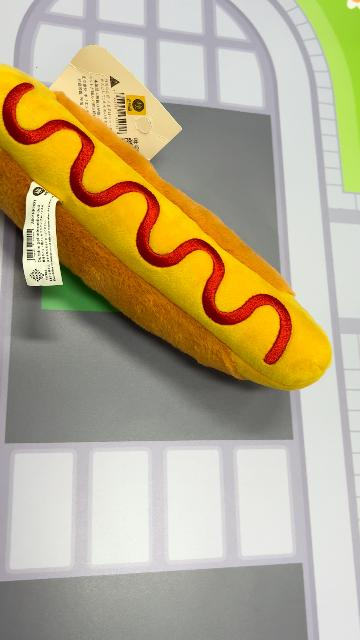hotdog: (2, 63, 334, 393)
